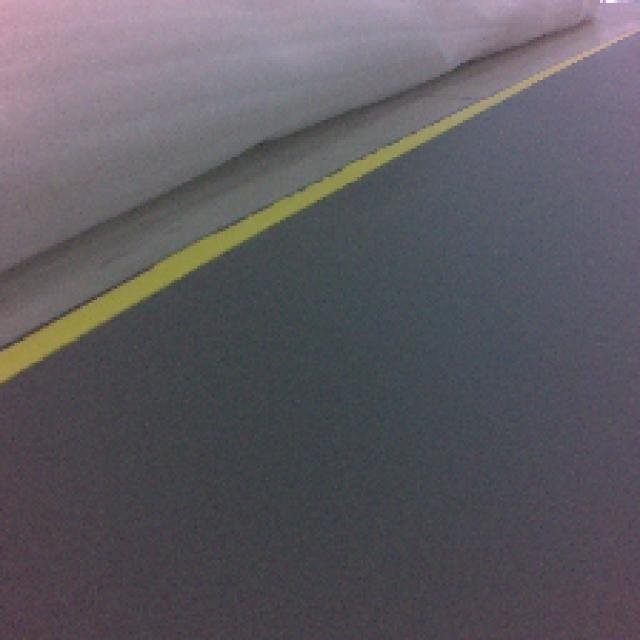Road: (0, 315, 640, 638)
